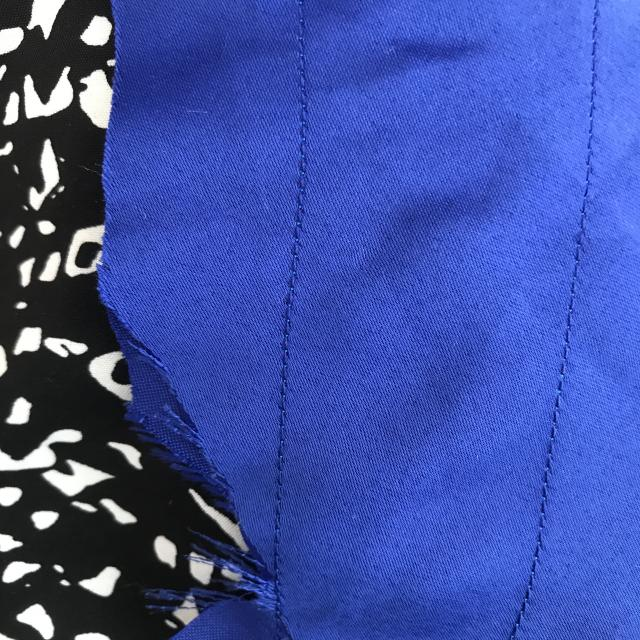good: (265, 287, 308, 424), (288, 96, 324, 230), (581, 57, 614, 198), (547, 252, 594, 348), (262, 463, 296, 555), (548, 392, 566, 452)
